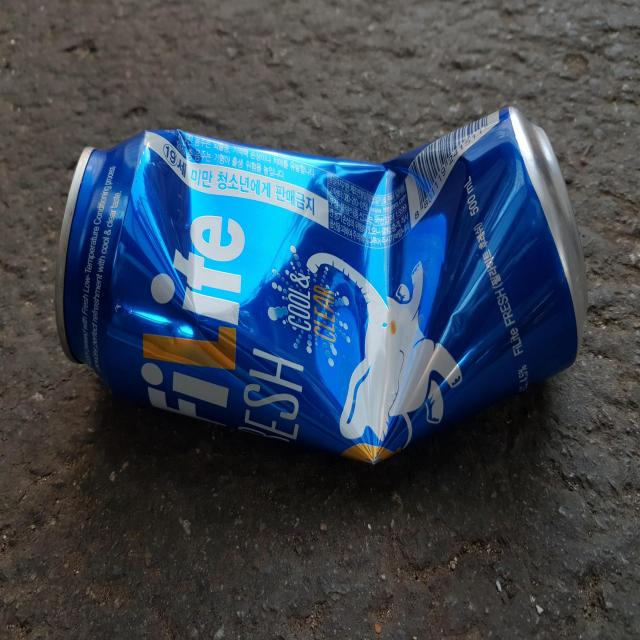can: (54, 107, 588, 463)
